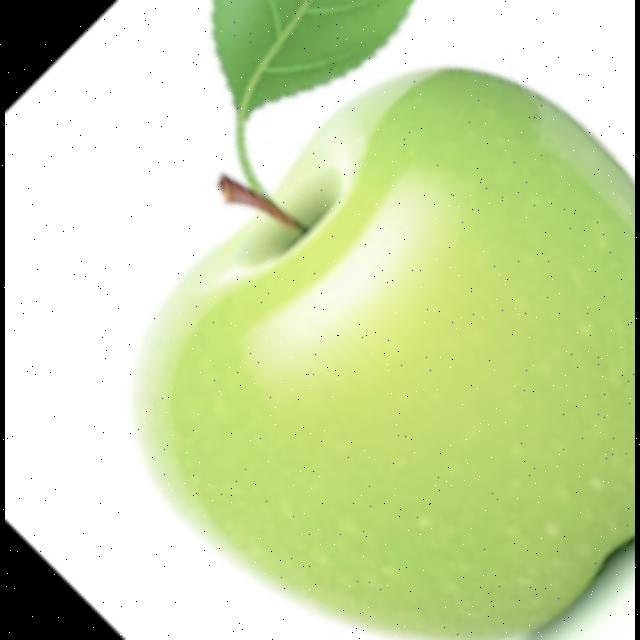Apel Segar: (128, 62, 636, 638)
